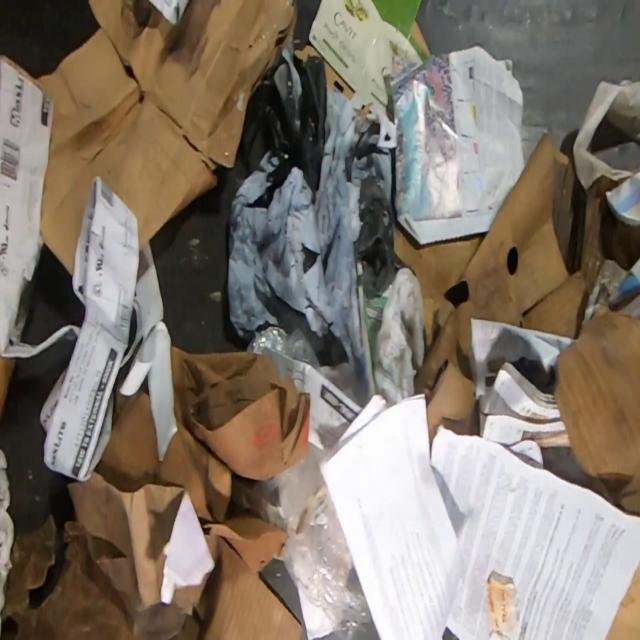cardboard: (36, 0, 297, 274), (394, 129, 606, 453), (96, 345, 311, 578), (66, 471, 303, 640), (554, 307, 640, 485), (309, 0, 423, 112), (294, 44, 353, 101), (602, 562, 640, 640), (410, 20, 430, 57)
soft_plastic: (226, 48, 404, 368), (257, 439, 380, 640), (246, 327, 320, 368)
